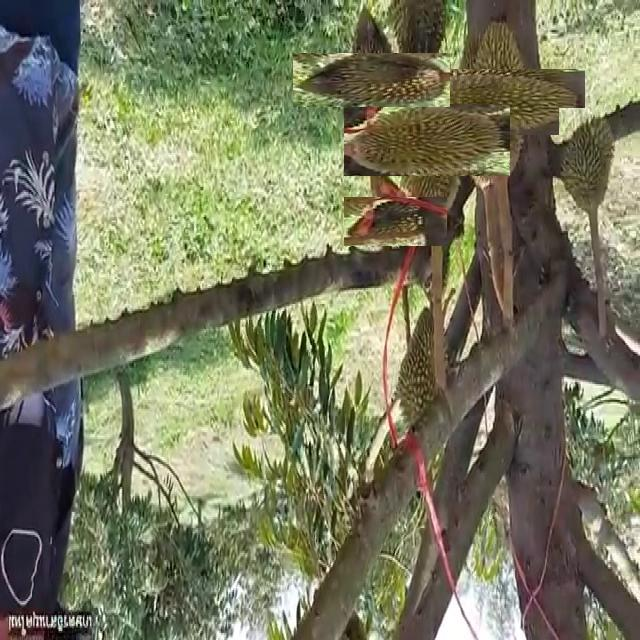durian: (438, 42, 558, 162), (367, 80, 487, 199), (318, 28, 424, 134), (396, 302, 458, 459), (559, 108, 616, 219), (357, 183, 433, 260)
